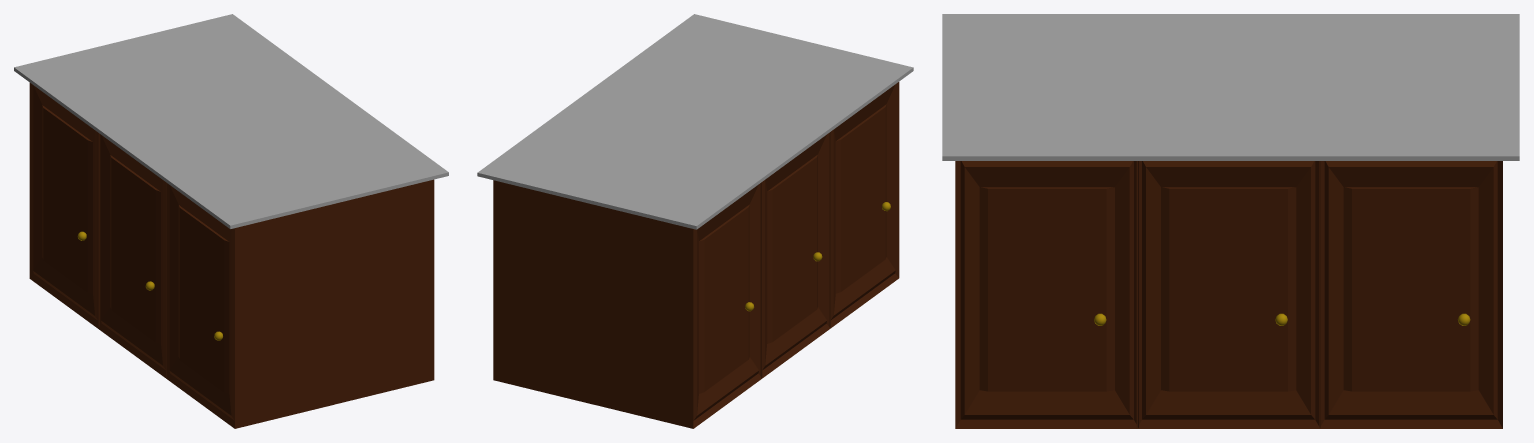
The model's file is counter.obj.
The picture shows the model from 3 angles, left to right: view 1: azimuth 30°, elevation 25°; view 2: azimuth 150°, elevation 25°; view 3: azimuth 270°, elevation 25°; orthographic projection. The views are drawn at different scales.
Visible parts, largest first — view 1: Cube.001_Cube.007; view 2: Cube.001_Cube.007; view 3: Cube.001_Cube.007.
Boxes of the visible parts, x1=… form: Cube.001_Cube.007: x1=14, y1=14, x2=448, y2=428; Cube.001_Cube.007: x1=477, y1=14, x2=913, y2=428; Cube.001_Cube.007: x1=942, y1=14, x2=1519, y2=428.
Size of the model in its own units: 2.21 by 2.02 by 3.79.
